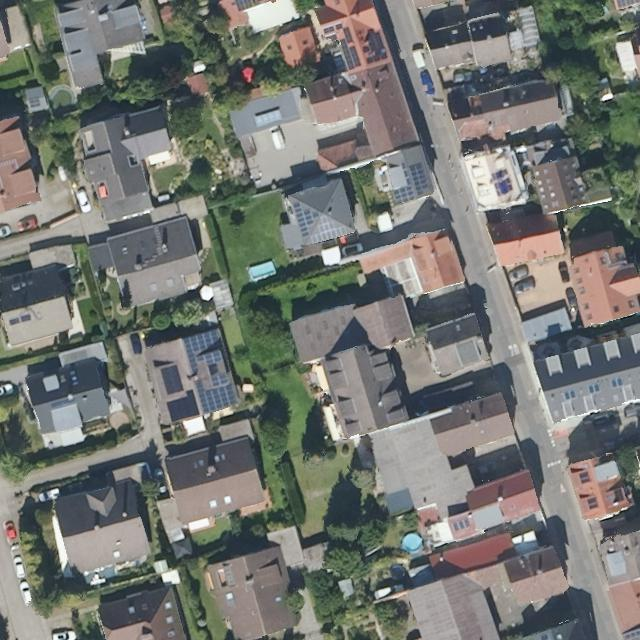PV: (181, 327, 227, 377), (391, 159, 439, 206), (193, 369, 239, 414), (303, 213, 356, 245), (288, 200, 324, 243), (365, 27, 389, 66), (338, 38, 364, 73), (322, 21, 356, 44)
